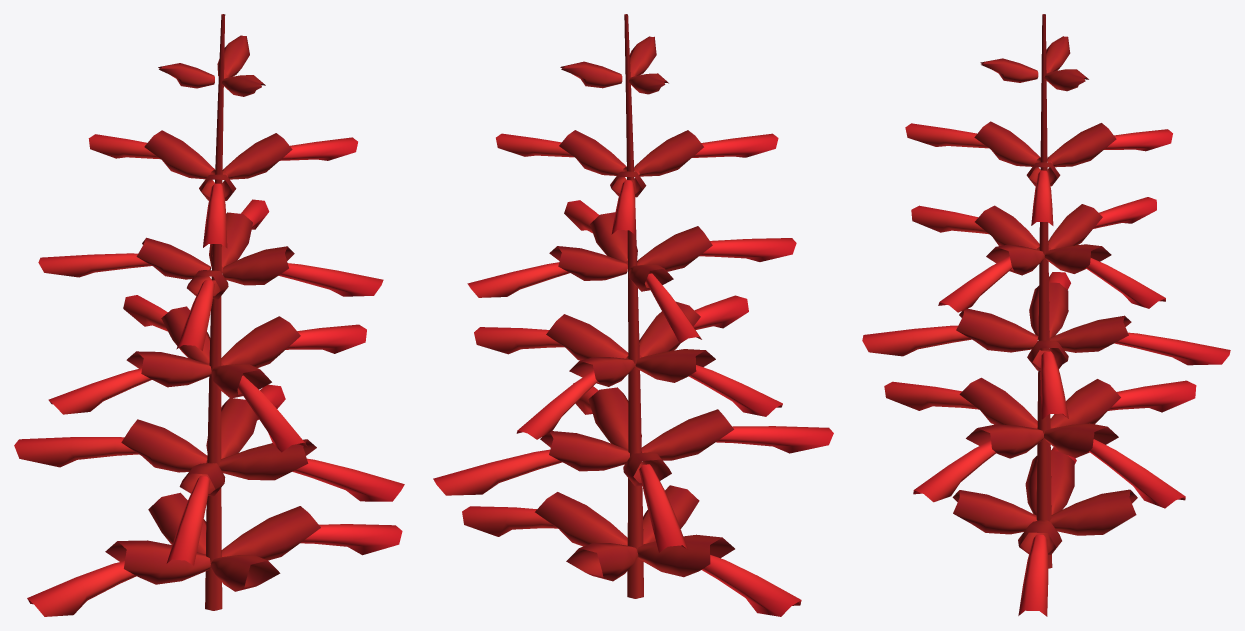
File: salvia_lod1.glb
The picture shows the model from 3 angles, left to right: view 1: azimuth 30°, elevation 25°; view 2: azimuth 150°, elevation 25°; view 3: azimuth 270°, elevation 25°; orthographic projection. The views are drawn at different scales.
Parts seen in each view (by area): view 1: calyx, corolla; view 2: calyx, corolla; view 3: calyx, corolla.
Boxes of the visible parts, bbox=[...] form: calyx: bbox=[105, 14, 320, 610]; corolla: bbox=[14, 134, 404, 616]; calyx: bbox=[535, 14, 734, 598]; corolla: bbox=[433, 133, 833, 616]; calyx: bbox=[952, 14, 1137, 568]; corolla: bbox=[862, 123, 1230, 616].
Bounding box in the file's own units: 0.0741 × 0.118 × 0.0709.
Materials: 2 (2 with a texture image).
